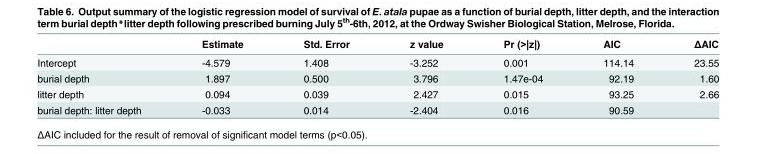table: (36, 37, 718, 115)
table column: (36, 37, 170, 115), (272, 37, 378, 115), (170, 37, 272, 115), (472, 37, 572, 115), (378, 37, 472, 115), (572, 37, 663, 115), (663, 37, 718, 115)
table column header: (36, 37, 718, 52)
table row: (36, 52, 718, 70), (36, 85, 718, 101), (36, 37, 718, 52), (36, 70, 718, 85), (36, 101, 718, 115)
